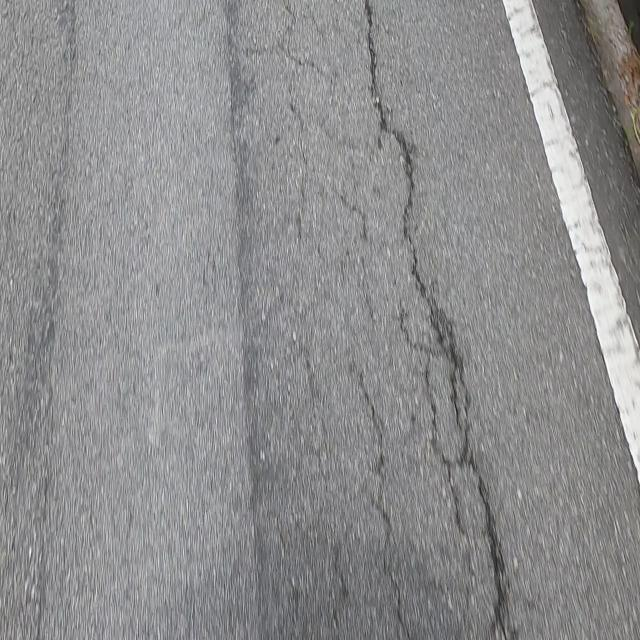Retak-Memanjang: (362, 0, 504, 630), (397, 311, 463, 547), (352, 376, 403, 627)
